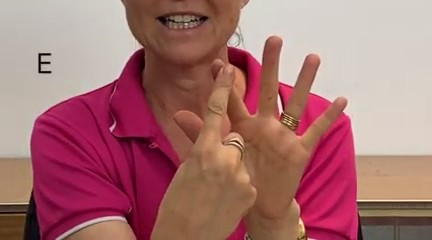E: (147, 29, 355, 240)
